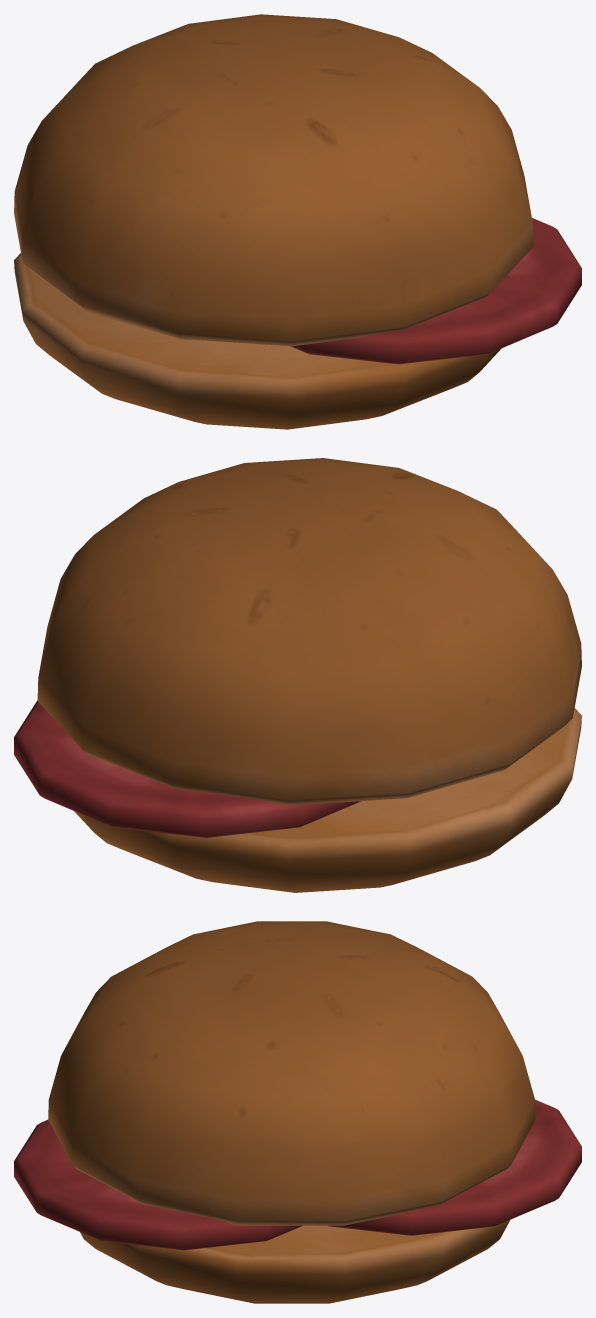
The model's file is MSH_Hamburguesa_P_J.fbx.
3 renders of one model, top to bottom at view 1: azimuth 30°, elevation 25°; view 2: azimuth 150°, elevation 25°; view 3: azimuth 270°, elevation 25°, orthographic. The views are drawn at different scales.
Parts seen in each view (by area): view 1: MSH_Hamburguesa_P_J; view 2: MSH_Hamburguesa_P_J; view 3: MSH_Hamburguesa_P_J.
Part boxes in pixels (left/top/right/bottom): MSH_Hamburguesa_P_J: left=14, top=14, right=581, bottom=429; MSH_Hamburguesa_P_J: left=14, top=458, right=581, bottom=892; MSH_Hamburguesa_P_J: left=14, top=921, right=581, bottom=1303.
Bounding box in the file's own units: 9.42 × 11.17 × 5.99.
Materials: 1 (1 with a texture image).
